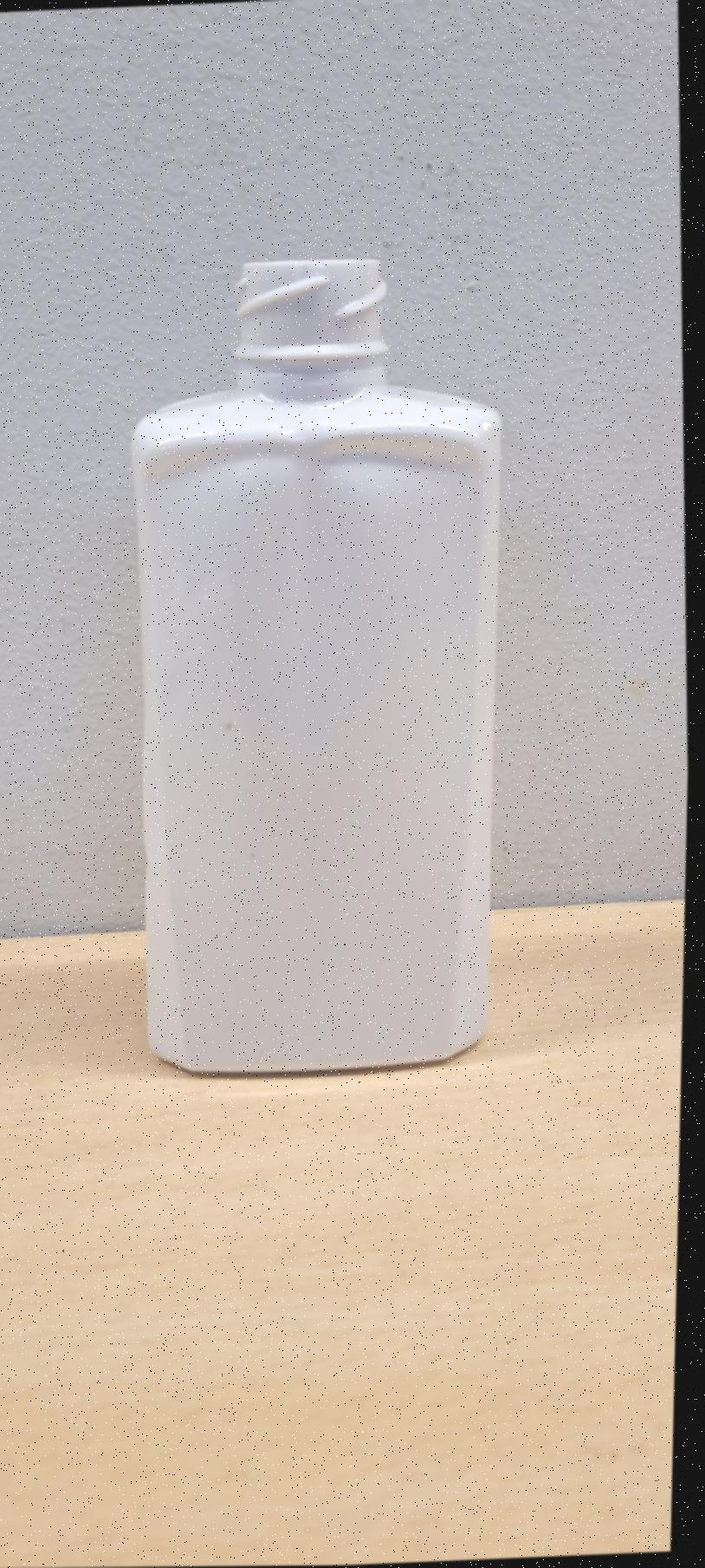bottle: (132, 258, 501, 1073), (133, 390, 503, 573)
